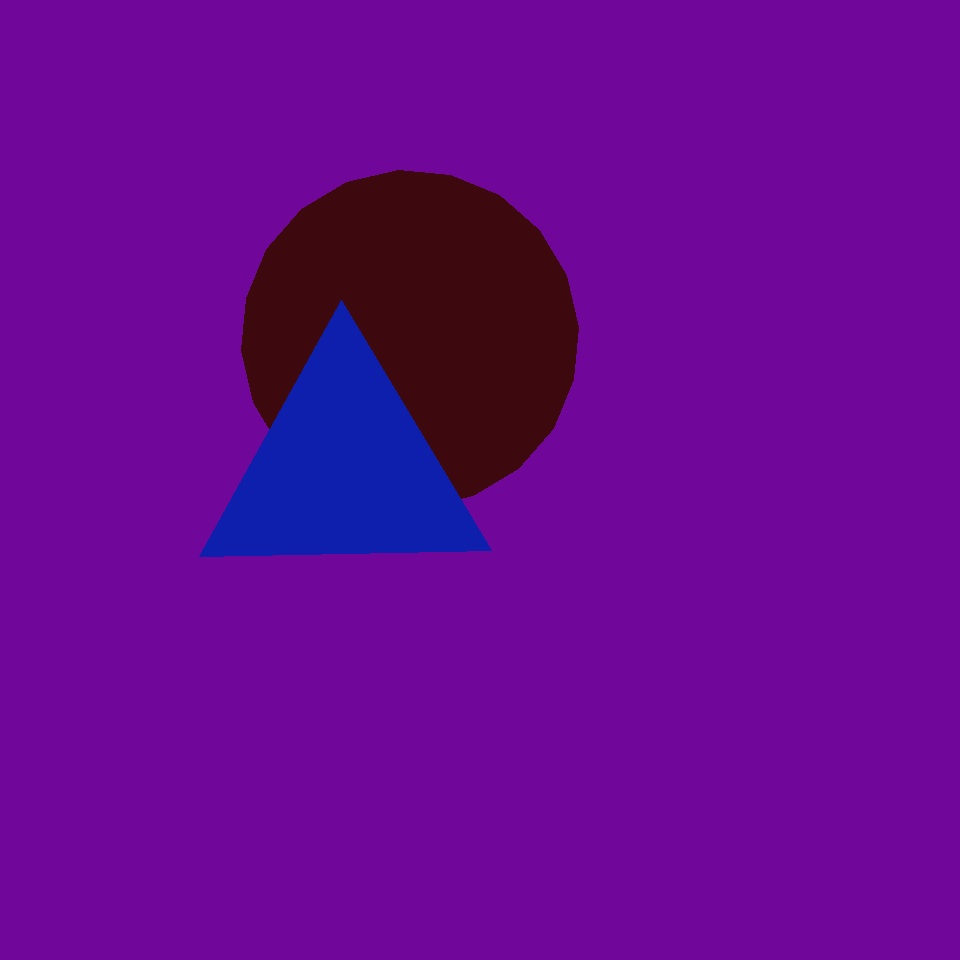circle: (198, 341, 490, 597), (428, 526, 670, 768), (118, 633, 339, 842), (80, 480, 228, 611)
square: (579, 145, 857, 423)
triangle: (242, 171, 578, 508), (116, 329, 302, 516), (147, 629, 329, 811)
